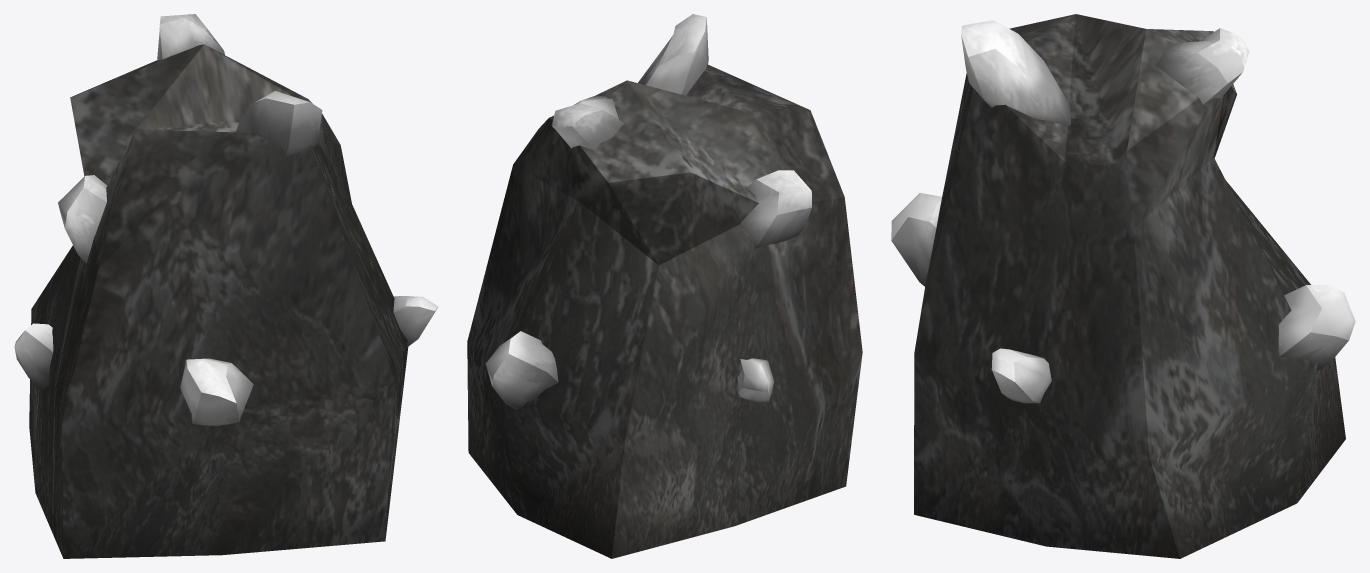
Rendered from SM_iron_RESS.fbx.
3 views of the same model, side by side, from view 1: azimuth 30°, elevation 25°; view 2: azimuth 150°, elevation 25°; view 3: azimuth 270°, elevation 25° (orthographic). The views are drawn at different scales.
Visible parts, largest first — view 1: SM_iron_RESS; view 2: SM_iron_RESS; view 3: SM_iron_RESS.
Boxes of the visible parts, bbox=[...] form: SM_iron_RESS: bbox=[14, 14, 438, 558]; SM_iron_RESS: bbox=[467, 14, 862, 558]; SM_iron_RESS: bbox=[891, 14, 1355, 558].
Size of the model in its own units: 1.43 by 1.6 by 1.48.
